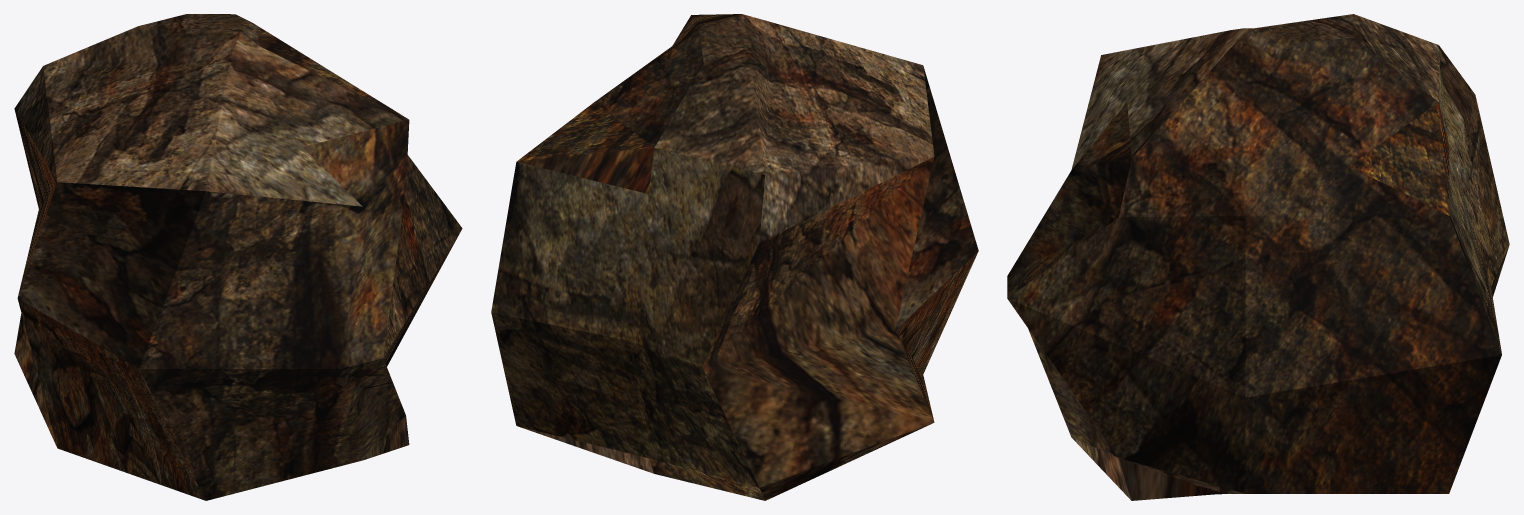
File: Rock_promp1.fbx
The picture shows the model from 3 angles, left to right: view 1: azimuth 30°, elevation 25°; view 2: azimuth 150°, elevation 25°; view 3: azimuth 270°, elevation 25°; orthographic projection. The views are drawn at different scales.
Parts seen in each view (by area): view 1: Cube; view 2: Cube; view 3: Cube.
Boxes of the visible parts, box(x1,y1,x2,y2) form: Cube: box(14, 14, 462, 500); Cube: box(491, 14, 978, 500); Cube: box(1007, 14, 1509, 500).
Bounding box in the file's own units: 1.76 × 1.7 × 1.8.
